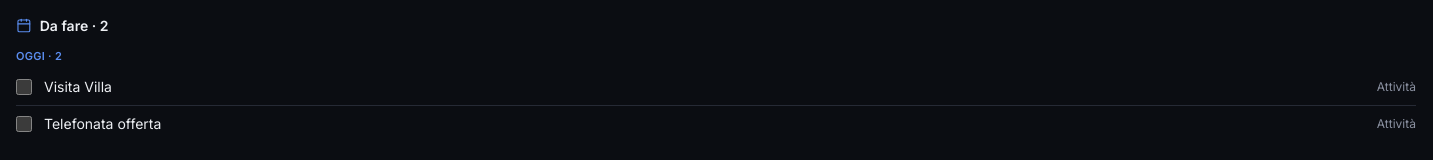
AgendaWidget: casella «fatto» › ogni riga ha la sua casella; spuntarla fa il passaggio di stato vero e la riga esce
Expected: the text "Visita Villa" is shown, [44,78,112,94]
Click the checkbox named "Segna come fatto: Visita Villa": (24, 86) [16,78,32,94]
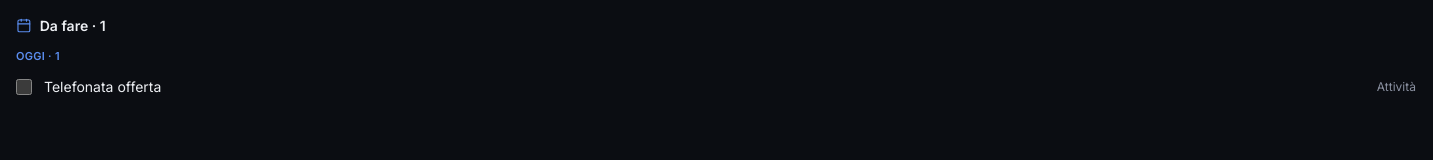
Expected: the text "Telefonata offerta" is shown, [44,78,161,94]
Now the button "Visita Villa" is gone
Now the heading "Da fare · 1" is shown, box [40,16,106,36]
